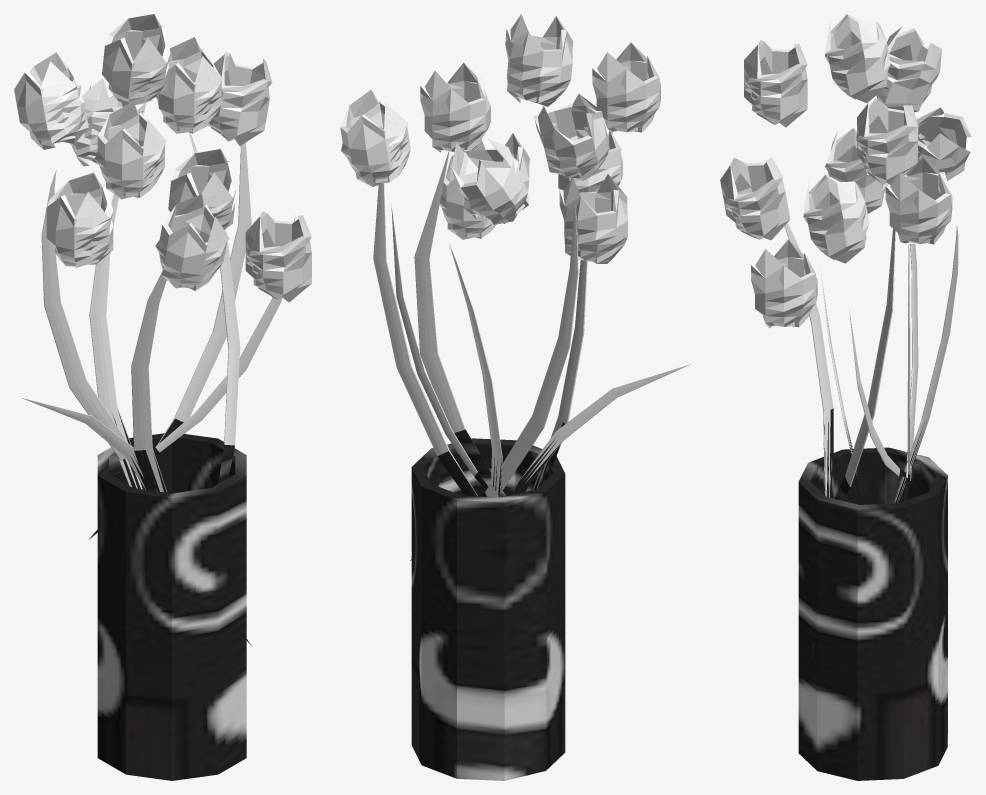
File: flowers1.dae
3 renders of one model, left to right at view 1: azimuth 30°, elevation 25°; view 2: azimuth 150°, elevation 25°; view 3: azimuth 270°, elevation 25°, orthographic. The views are drawn at different scales.
Visible parts, largest first — view 1: flowers1; view 2: flowers1; view 3: flowers1.
Part boxes in pixels (x1=…): flowers1: x1=14, y1=14, x2=311, y2=780; flowers1: x1=340, y1=14, x2=691, y2=780; flowers1: x1=720, y1=14, x2=971, y2=780.
Size of the model in its own units: 0.1571 by 0.1197 by 0.3754.
2 materials, 2 textured.
